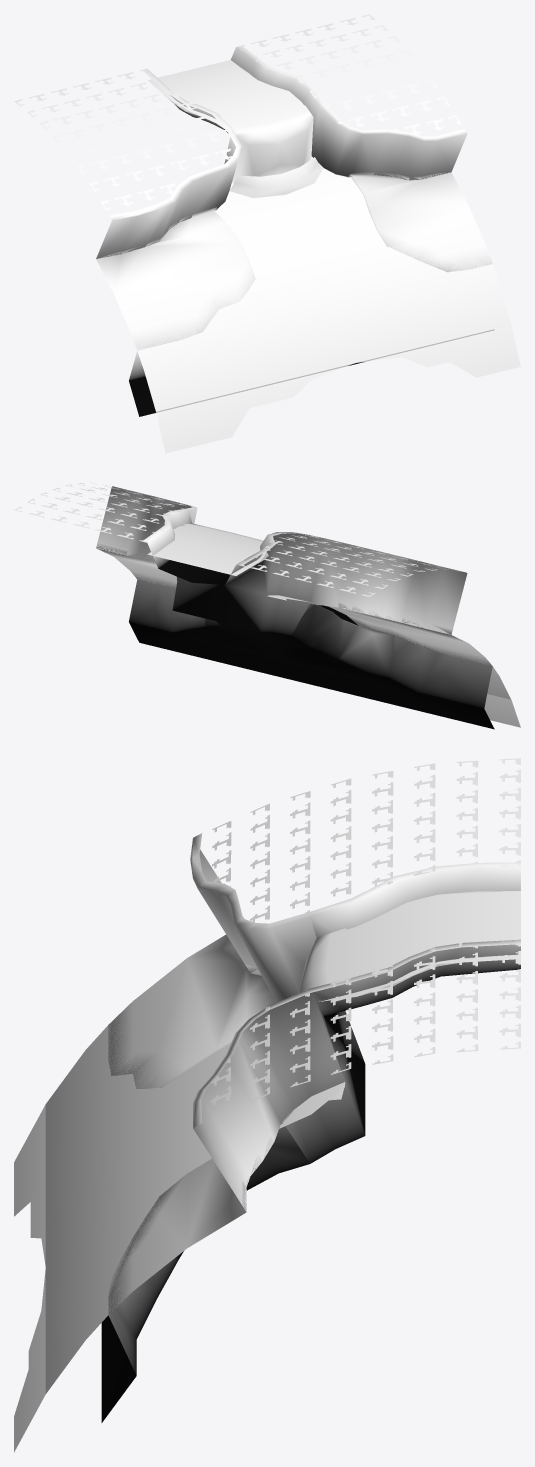
The model's file is grd_Ms_R_1.dae.
3 views of the same model, one above another, from view 1: azimuth 30°, elevation 25°; view 2: azimuth 150°, elevation 25°; view 3: azimuth 270°, elevation 25° (orthographic). The views are drawn at different scales.
Parts seen in each view (by area): view 1: grd_Ms_R_1; view 2: grd_Ms_R_1; view 3: grd_Ms_R_1.
Boxes of the visible parts, x1,y1,x2,y2 form: grd_Ms_R_1: (14, 14, 520, 453); grd_Ms_R_1: (14, 482, 520, 729); grd_Ms_R_1: (14, 758, 520, 1452).
Bounding box in the file's own units: 512 × 332 × 378.
10 materials, 1 textured.
